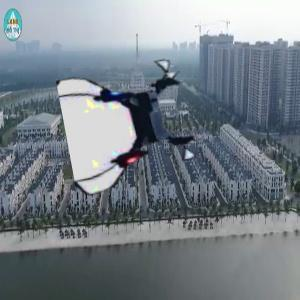drone: (66, 58, 199, 191)
